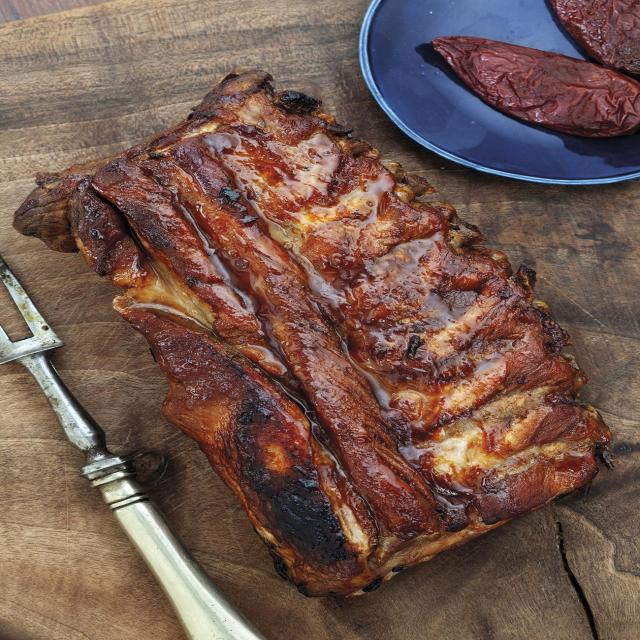carne de cerdo: (5, 62, 636, 604)
